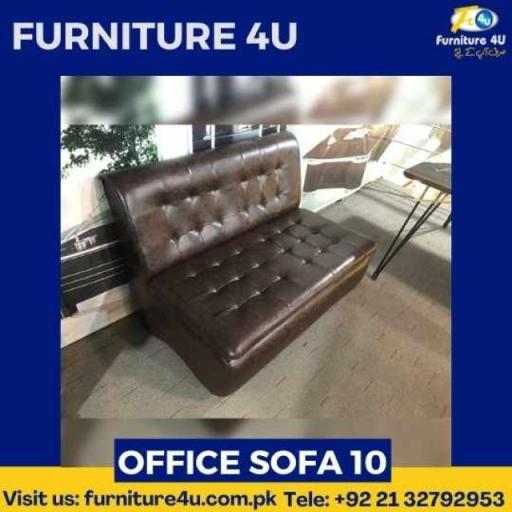sofa: (101, 136, 416, 415)
